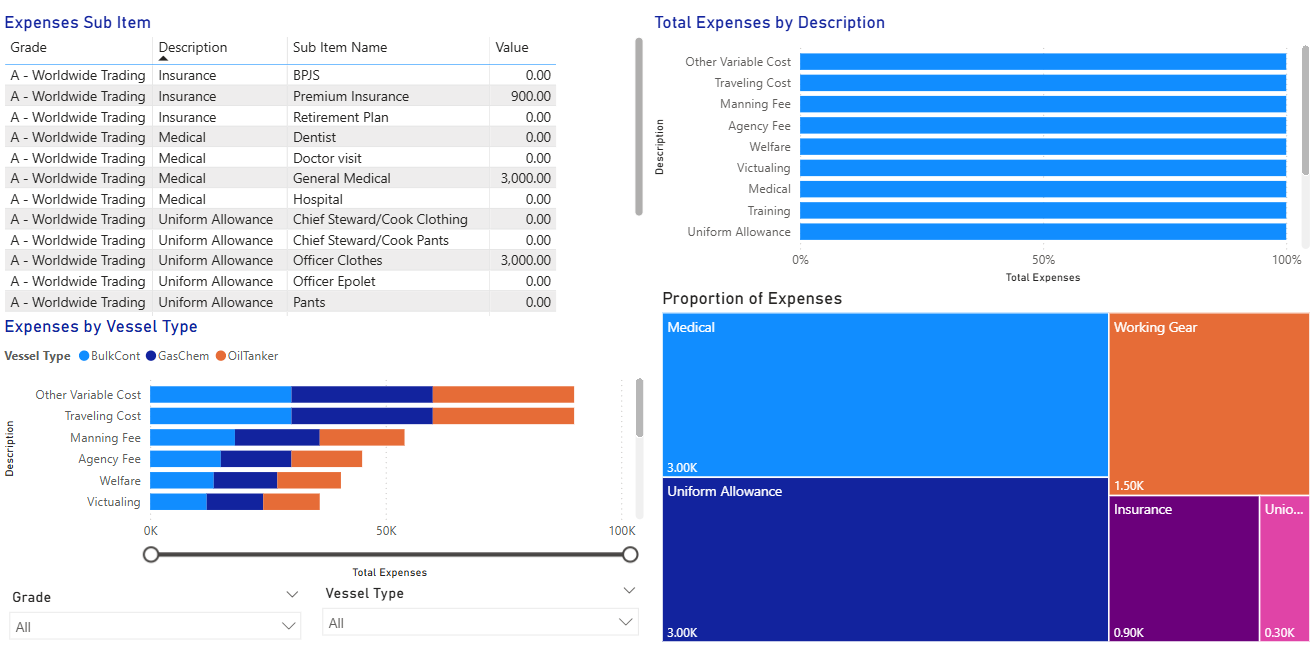

Layout of this report page (visuals, bound fields, positions):
{"tool":"powerbi","page":{"name":"Expenses Detail","canvas":[1280,720],"ordinal":2},"visuals":[{"type":"hundredPercentStackedBarChart","title":"Total Expenses by Description","fields":{"Category":["Expenses.Description"],"Y":["Sum(Expenses.TotalExpenses)"]},"box":[632.2,102.1,647.8,268.4],"z":0},{"type":"treemap","title":"Proportion of Expenses","fields":{"Group":["Expenses_SubItems.ParentDescription"],"Values":["Sum(Expenses_SubItems.Value)"]},"box":[640,370.6,640,349.2],"z":1000},{"type":"tableEx","title":"Expenses Sub Item","fields":{"Values":["Expenses_SubItems.Grade","Expenses_SubItems.ParentDescription","Expenses_SubItems.SubItemName","Sum(Expenses_SubItems.Value)"]},"box":[0,102.1,632.2,324.9],"z":2000},{"type":"actionButton","box":[0,0,100,40],"z":3000},{"type":"barChart","title":"Expenses by Vessel Type","fields":{"Category":["Expenses_LongFormat.Description"],"Y":["Sum(Expenses_LongFormat.TotalExpenses)"],"Series":["Expenses_LongFormat.VesselType"]},"box":[0,397.8,632.2,259.7],"z":4000},{"type":"slicer","fields":{"Values":["Expenses_LongFormat.Grade"]},"box":[0,657.5,304.4,62.2],"z":5000},{"type":"slicer","fields":{"Values":["Expenses_LongFormat.VesselType"]},"box":[304.4,653.6,327.8,66.1],"z":6000},{"type":"textbox","box":[0,0,1280,91.4],"z":6001}]}

Visuals, with their boxes on the page's 1280x720 design canvas (x1, y1, x2, y2). These are canvas units, not pixel positions in the 1315x646 screenshot, which may show the page scaled, cropped or inside an application window:
"Total Expenses by Description" hundredPercentStackedBarChart: (left=632, top=102, right=1280, bottom=370)
"Proportion of Expenses" treemap: (left=640, top=371, right=1280, bottom=720)
"Expenses Sub Item" tableEx: (left=0, top=102, right=632, bottom=427)
actionButton: (left=0, top=0, right=100, bottom=40)
"Expenses by Vessel Type" barChart: (left=0, top=398, right=632, bottom=658)
slicer - Expenses_LongFormat.Grade: (left=0, top=658, right=304, bottom=720)
slicer - Expenses_LongFormat.VesselType: (left=304, top=654, right=632, bottom=720)
textbox: (left=0, top=0, right=1280, bottom=91)
